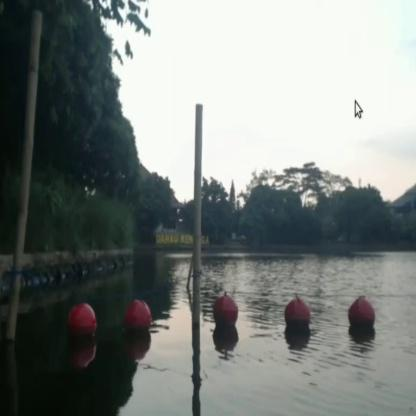red_buoy: (66, 303, 99, 350), (282, 295, 312, 335), (347, 295, 375, 337), (126, 300, 150, 338), (212, 292, 238, 327)
